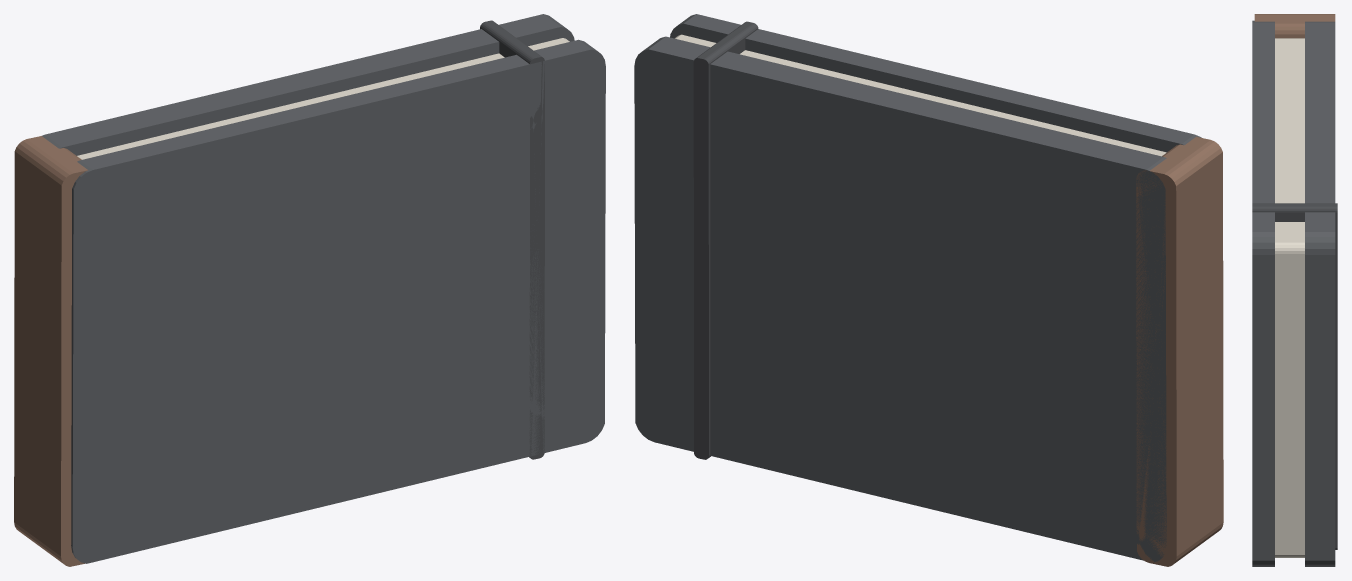
Rendered from notebook.glb.
3 views of the same model, side by side, from view 1: azimuth 30°, elevation 25°; view 2: azimuth 150°, elevation 25°; view 3: azimuth 270°, elevation 25° (orthographic). The views are drawn at different scales.
Visible parts, largest first — view 1: cover_front, notebook_spine, cover_back, notebook_band, pages; view 2: cover_back, notebook_spine, cover_front, notebook_band, pages; view 3: cover_back, pages, cover_front, notebook_band, notebook_spine.
Boxes of the visible parts, x1=… form: cover_front: x1=71, y1=39, x2=605, y2=563; notebook_spine: x1=14, y1=136, x2=87, y2=566; cover_back: x1=42, y1=14, x2=574, y2=155; notebook_band: x1=480, y1=20, x2=544, y2=459; pages: x1=77, y1=38, x2=569, y2=159; cover_back: x1=634, y1=36, x2=1166, y2=562; notebook_spine: x1=1136, y1=136, x2=1223, y2=566; cover_front: x1=670, y1=14, x2=1201, y2=152; notebook_band: x1=693, y1=21, x2=758, y2=459; pages: x1=675, y1=34, x2=1166, y2=156; cover_back: x1=1305, y1=21, x2=1335, y2=566; pages: x1=1275, y1=38, x2=1304, y2=557; cover_front: x1=1252, y1=20, x2=1274, y2=566; notebook_band: x1=1252, y1=203, x2=1337, y2=549; notebook_spine: x1=1254, y1=14, x2=1335, y2=38.
Bounding box in the file's own units: 0.214 × 0.151 × 0.034.
